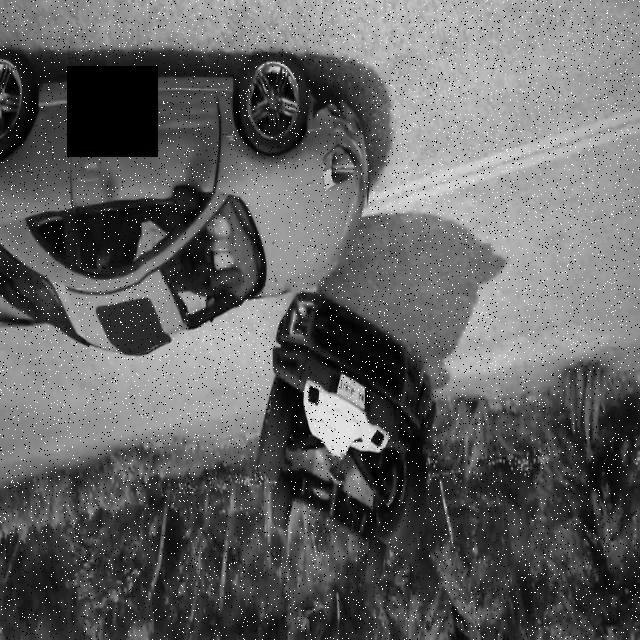severe: (252, 289, 442, 609)
